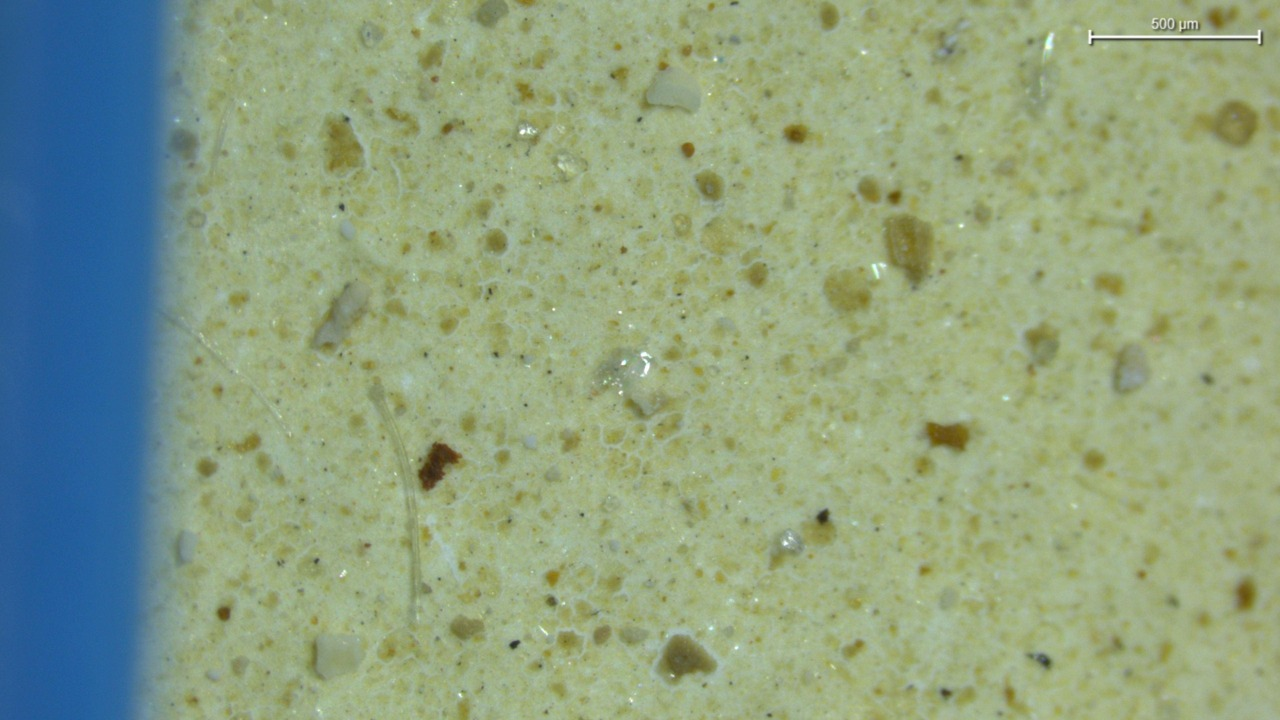microplastic_fragment: (593, 347, 663, 415), (312, 281, 369, 350), (885, 215, 933, 284), (645, 62, 702, 112), (316, 634, 364, 679), (1112, 344, 1149, 392), (555, 153, 588, 181), (776, 529, 804, 554), (518, 122, 538, 139)
